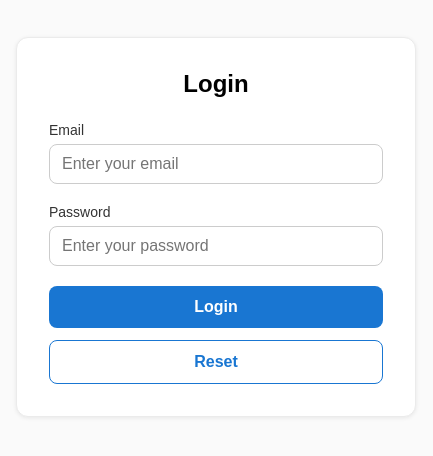
Test case: Login Page › clears a field's error when the user begins typing in it
Click the button "Login". click: [216, 307]
box: [49,286,383,328]
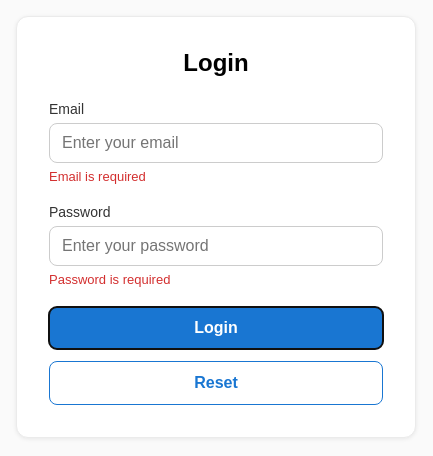
Now the text "Email is required" is shown, box [49,169,146,184]
Type "a" into the field labelled "Email". click: [216, 143]
box: [49,123,383,163]
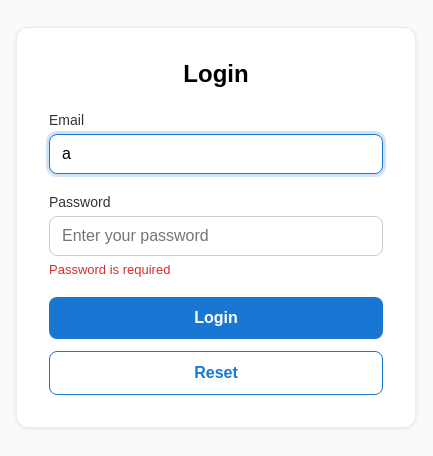
Now the text "Email is required" is gone
